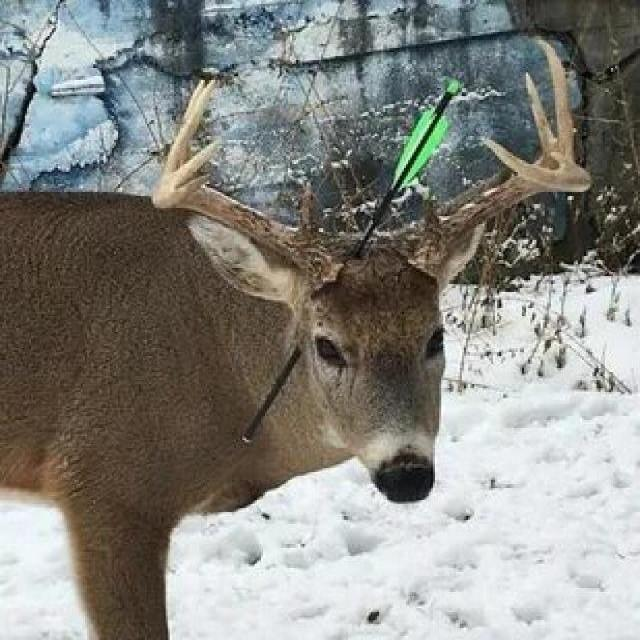deer: (0, 84, 536, 512)
